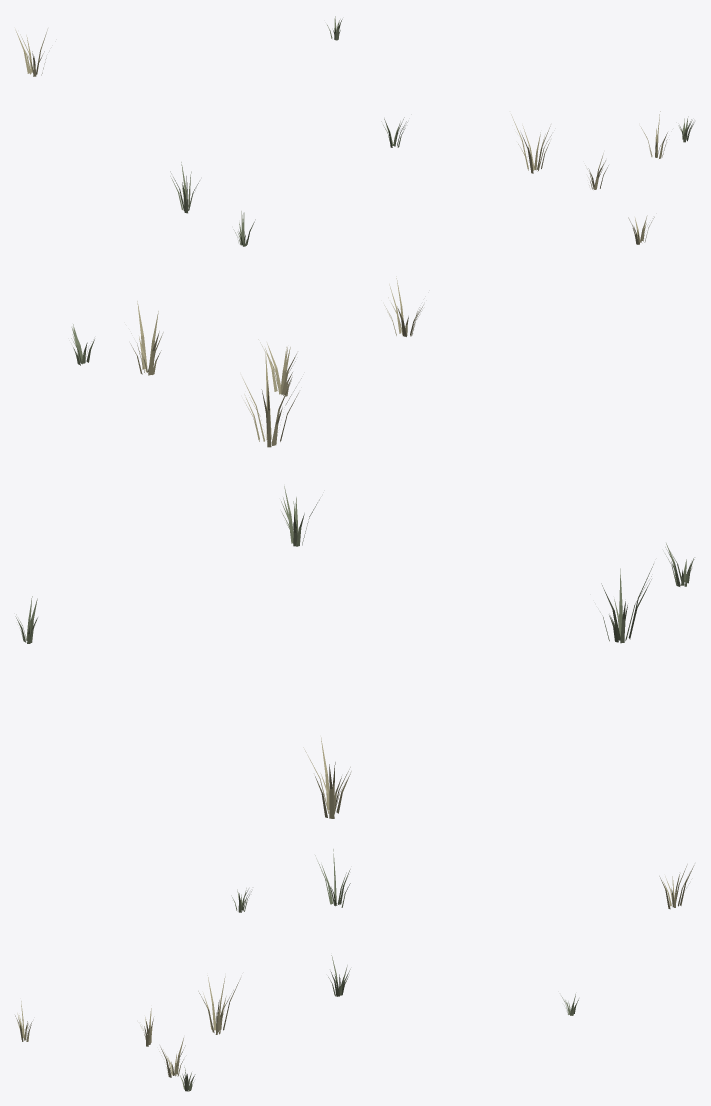
The model's file is AE_Grass_-6_1.fbx.
3 renders of one model, top to bottom at view 1: azimuth 30°, elevation 25°; view 2: azimuth 150°, elevation 25°; view 3: azimuth 270°, elevation 25°, orthographic. The views are drawn at different scales.
Visible parts, largest first — view 1: AE_Grass_-6_1_LOD0; view 2: AE_Grass_-6_1_LOD0; view 3: AE_Grass_-6_1_LOD0.
Part boxes in pixels (x1,y1,x2,y2): AE_Grass_-6_1_LOD0: (15, 16, 694, 246); AE_Grass_-6_1_LOD0: (15, 276, 694, 818); AE_Grass_-6_1_LOD0: (15, 849, 694, 1091).
Size of what is drawn, in the model's own units: 783 by 114 by 1027.
